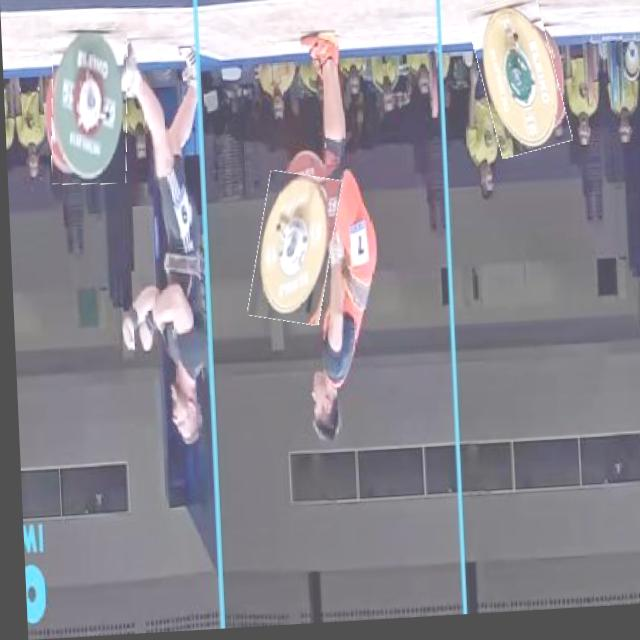barbell: (472, 3, 565, 164), (247, 175, 339, 330), (48, 29, 131, 188)
